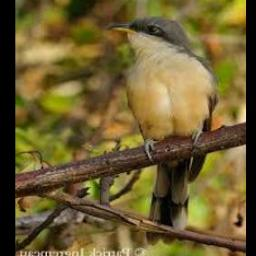Cuckoo: (107, 18, 220, 245)
